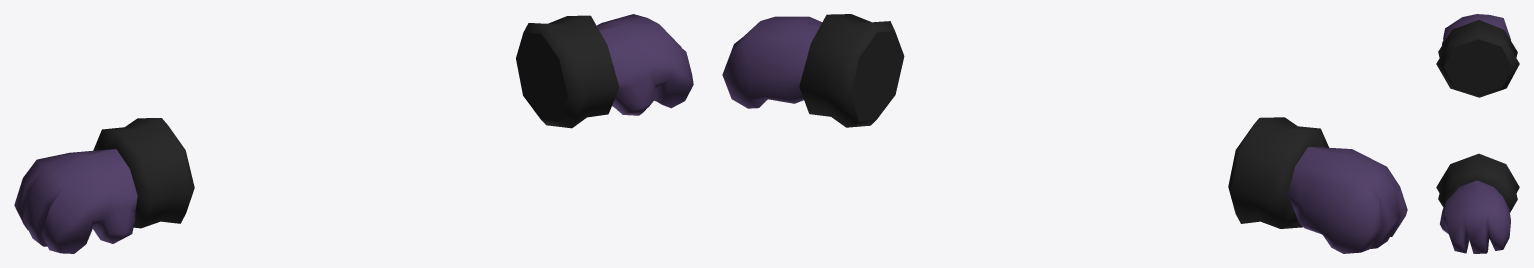
The model's file is Glove_29.fbx.
3 renders of one model, left to right at view 1: azimuth 30°, elevation 25°; view 2: azimuth 150°, elevation 25°; view 3: azimuth 270°, elevation 25°, orthographic. The views are drawn at different scales.
Parts seen in each view (by area): view 1: Glove_29; view 2: Glove_29; view 3: Glove_29.
Boxes of the visible parts, x1,y1,x2,y2 form: Glove_29: (14, 14, 693, 253); Glove_29: (722, 14, 1407, 253); Glove_29: (1436, 14, 1519, 253).
Size of the model in its own units: 133 by 19.74 by 22.85.
